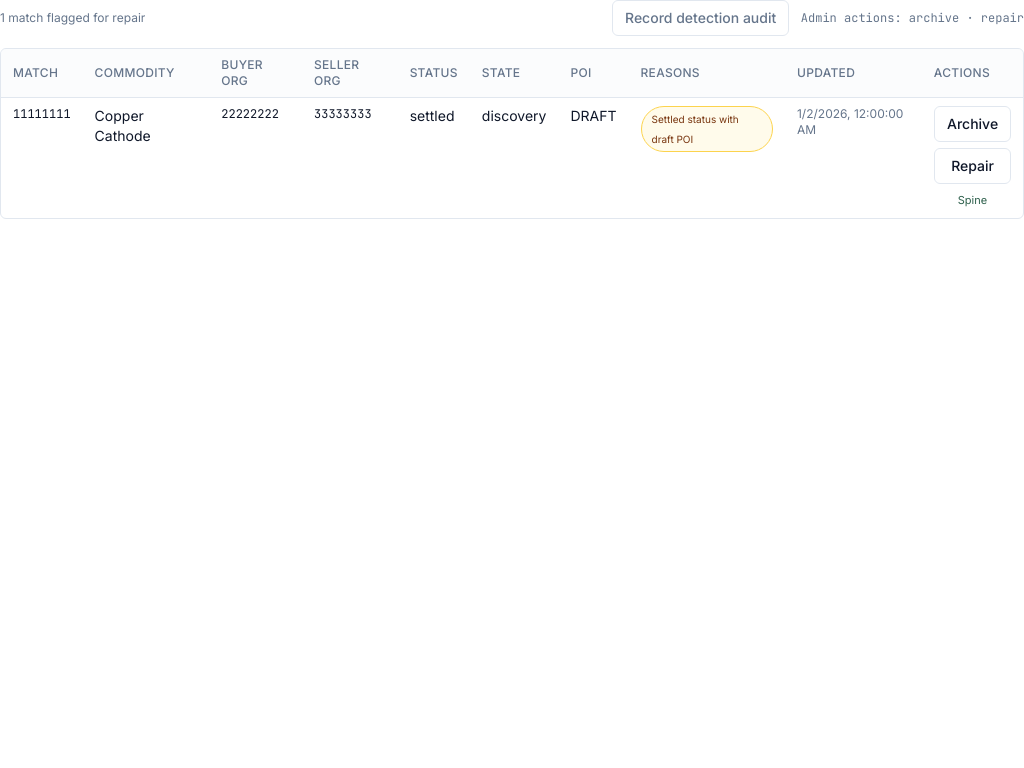
Test: AdminLegacyRepairPanel — Step 5 admin actions › repair confirm stays disabled until both operation and valid notes are set
Expected: the text "Copper Cathode" is shown, [83,98,209,218]
Click the button "Repair" at (972, 166), box [934,148,1011,184]
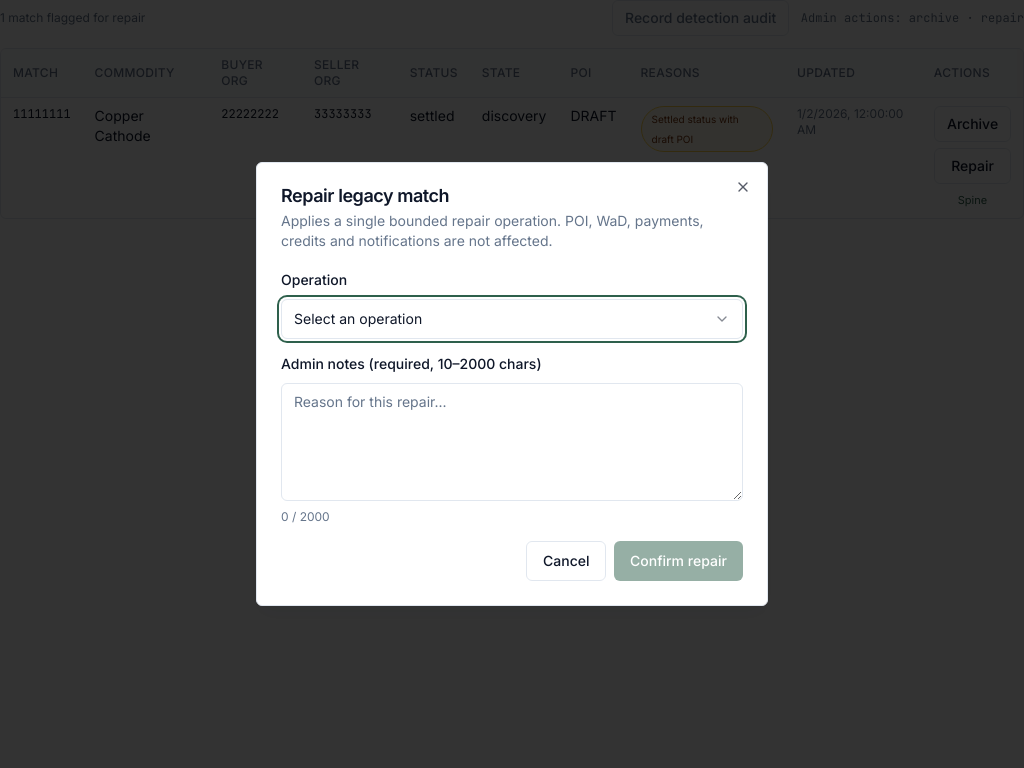
Now the button "Confirm repair" is disabled, box [614,541,743,581]
Type "Legacy row archived following business decision XYZ-123." into the text box labelled "Admin notes (required, 10–2000 chars)" at (512, 442), box [281,383,743,501]
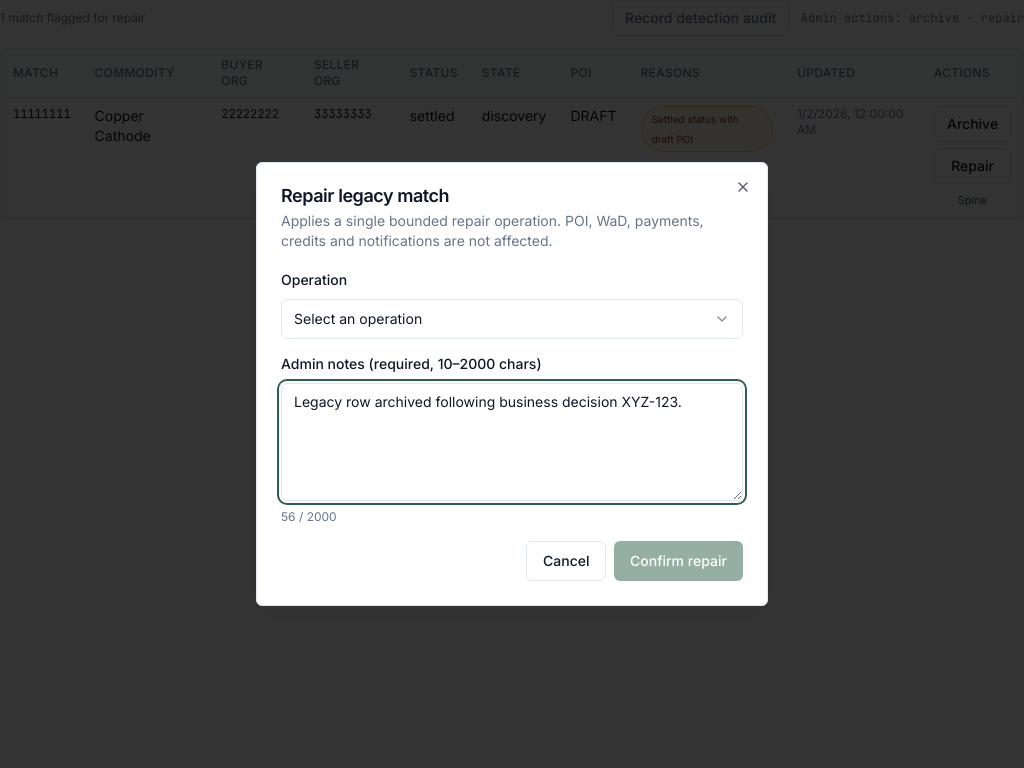
Now the button "Confirm repair" is disabled, box [614,541,743,581]
Click the dropdown at (358, 318), box [281,299,743,339]
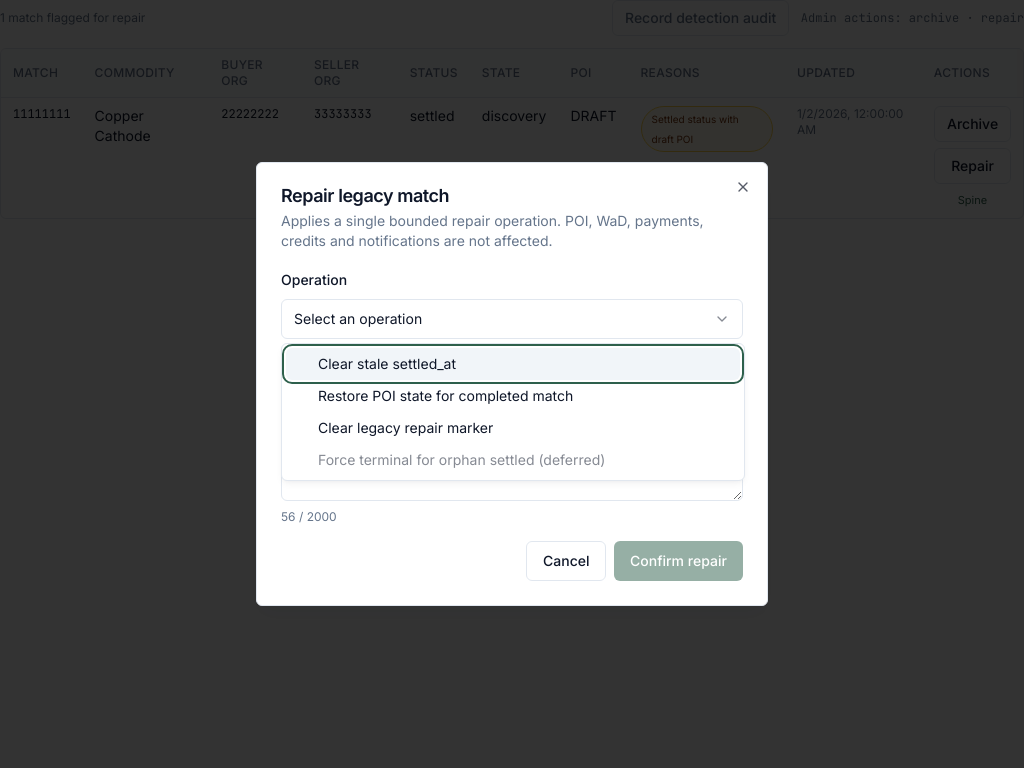
Click the option "Clear stale settled_at" at (387, 364), box [286,348,740,380]
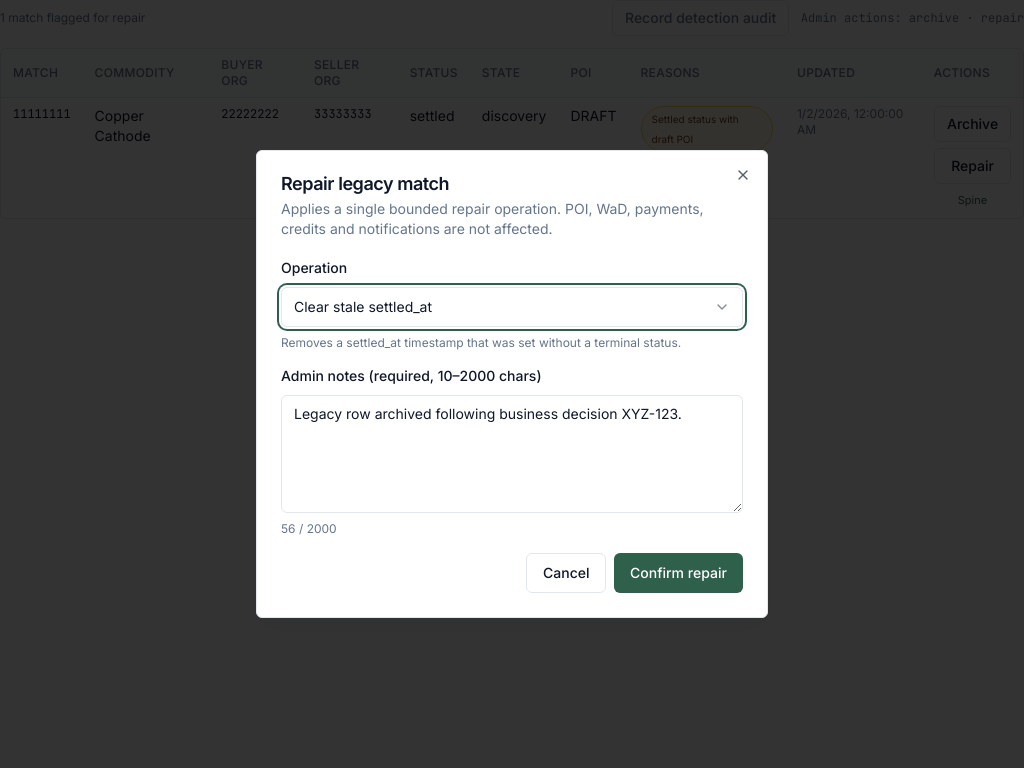
Now the button "Confirm repair" is enabled, box [614,553,743,593]
